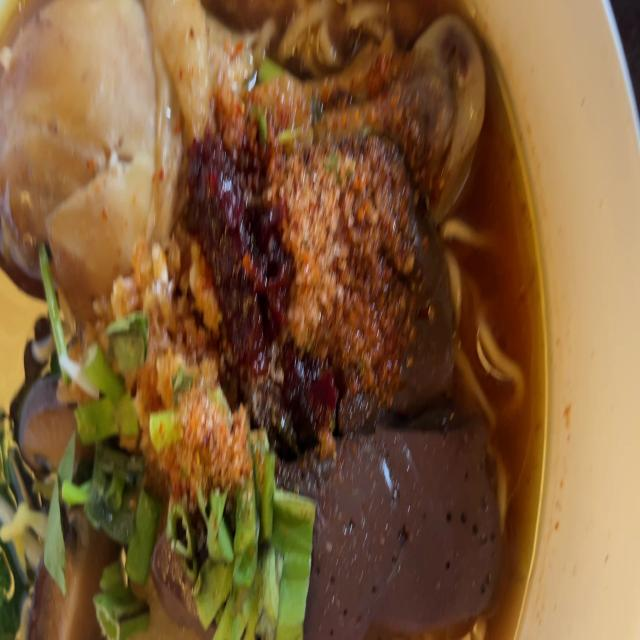noodle: (0, 0, 493, 640)
